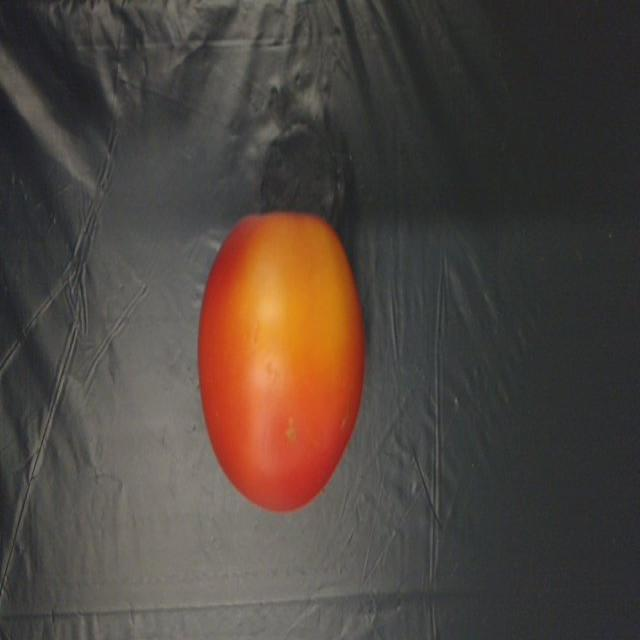sari: (183, 194, 373, 518)
